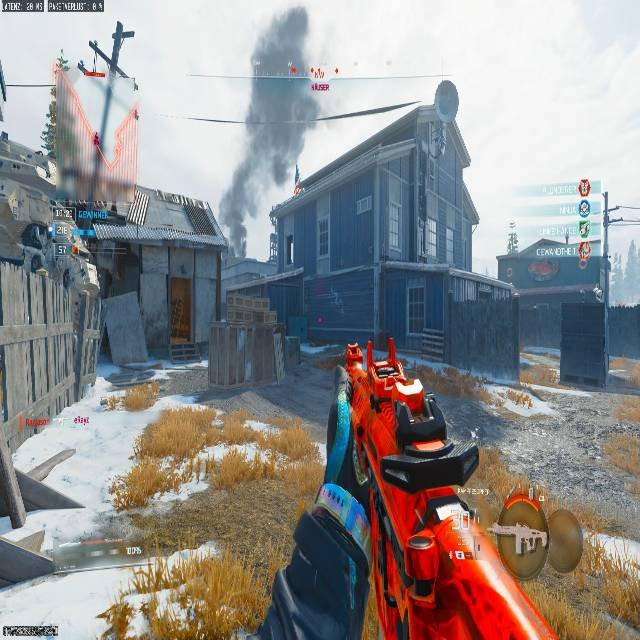player: (61, 473, 73, 487)
